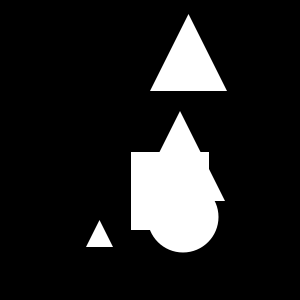circle: (131, 152, 209, 230)
rectangle: (148, 182, 218, 252)
triangle: (135, 111, 225, 201), (150, 14, 227, 91), (86, 220, 113, 247)
